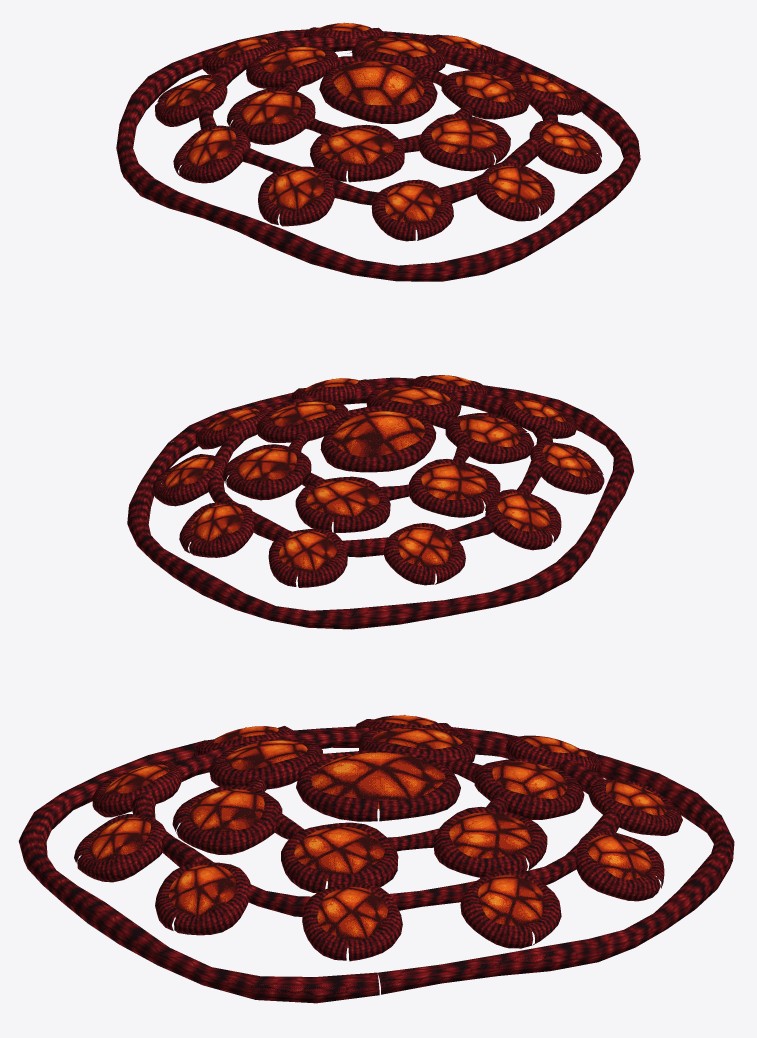
File: Cavern_Membrane_CeilingVault.glb
3 renders of one model, top to bottom at view 1: azimuth 30°, elevation 25°; view 2: azimuth 150°, elevation 25°; view 3: azimuth 270°, elevation 25°, orthographic. The views are drawn at different scales.
Parts seen in each view (by area): view 1: Ceiling_Visceral_WebBeams, Ceiling_Backlit_Alveoli; view 2: Ceiling_Visceral_WebBeams, Ceiling_Backlit_Alveoli; view 3: Ceiling_Visceral_WebBeams, Ceiling_Backlit_Alveoli.
Boxes of the visible parts, bbox=[...] form: Ceiling_Visceral_WebBeams: bbox=[116, 27, 640, 281]; Ceiling_Backlit_Alveoli: bbox=[164, 22, 592, 229]; Ceiling_Visceral_WebBeams: bbox=[127, 376, 633, 629]; Ceiling_Backlit_Alveoli: bbox=[164, 375, 592, 576]; Ceiling_Visceral_WebBeams: bbox=[18, 719, 734, 1003]; Ceiling_Backlit_Alveoli: bbox=[87, 714, 667, 947].
Bounding box in the file's own units: 175 × 41.31 × 205.
2 materials, 2 textured.
